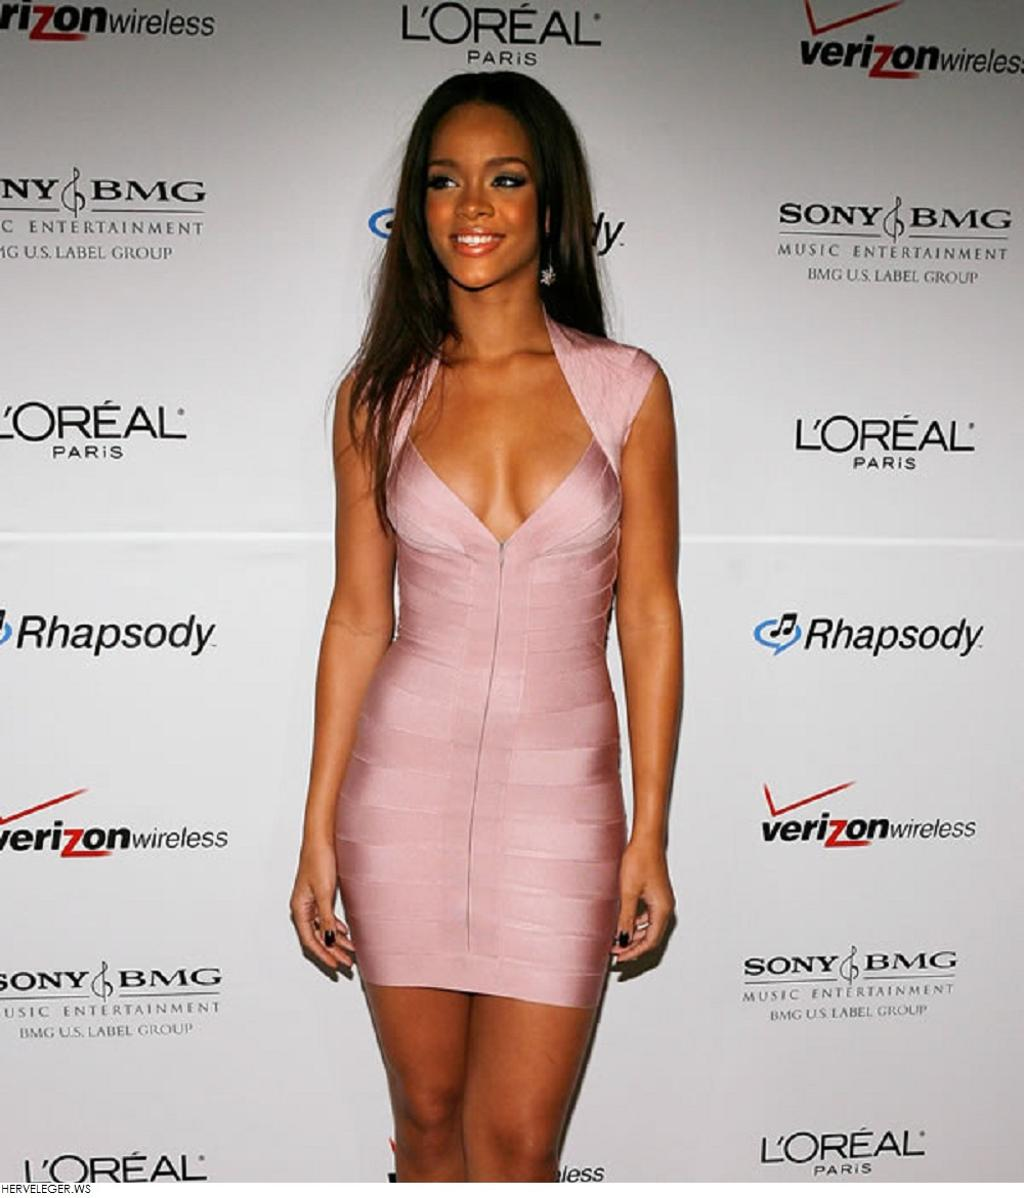face: (418, 103, 542, 288)
